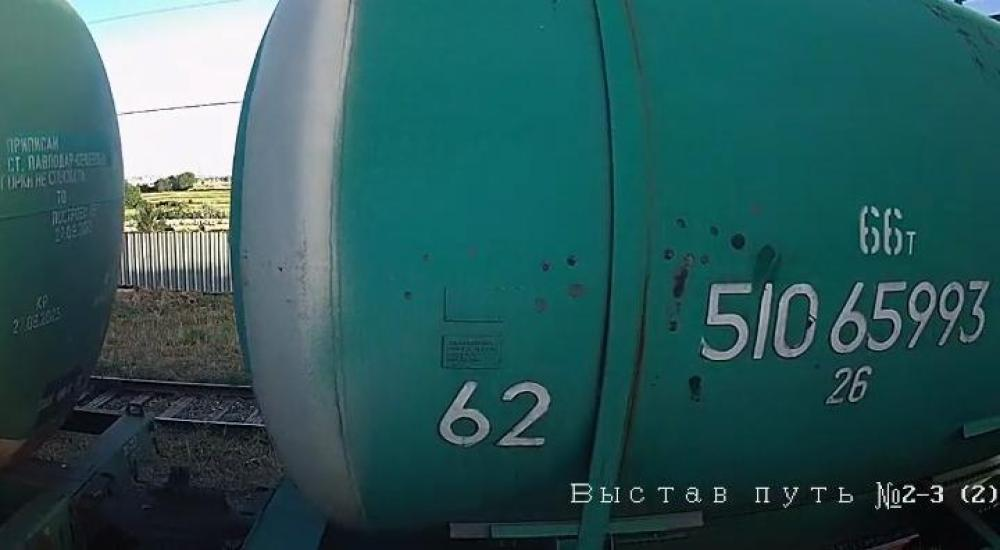Wagon-number: (694, 272, 995, 367)
